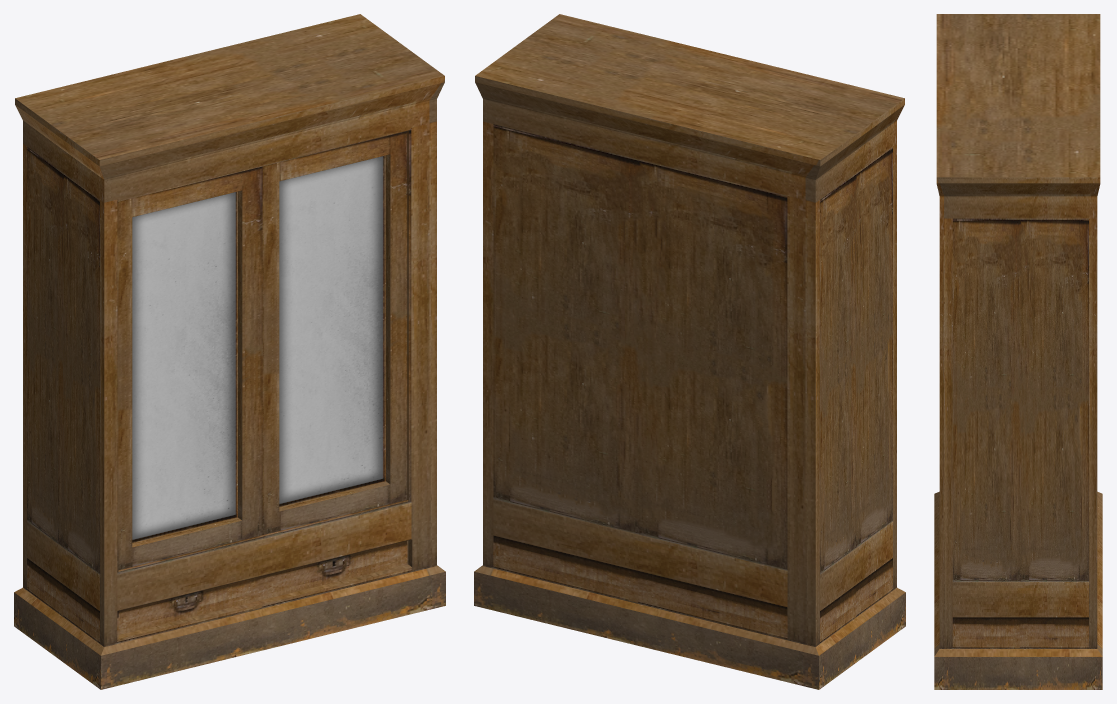
The model's file is servant_1.fbx.
3 renders of one model, left to right at view 1: azimuth 30°, elevation 25°; view 2: azimuth 150°, elevation 25°; view 3: azimuth 270°, elevation 25°, orthographic. The views are drawn at different scales.
Visible parts, largest first — view 1: servant_1.001; view 2: servant_1.001; view 3: servant_1.001.
Part boxes in pixels (box(x1,y1,x2,y2)): servant_1.001: box(14, 14, 445, 689); servant_1.001: box(474, 14, 905, 689); servant_1.001: box(934, 14, 1102, 689).
Size of the model in its own units: 136 by 200 by 59.43.
